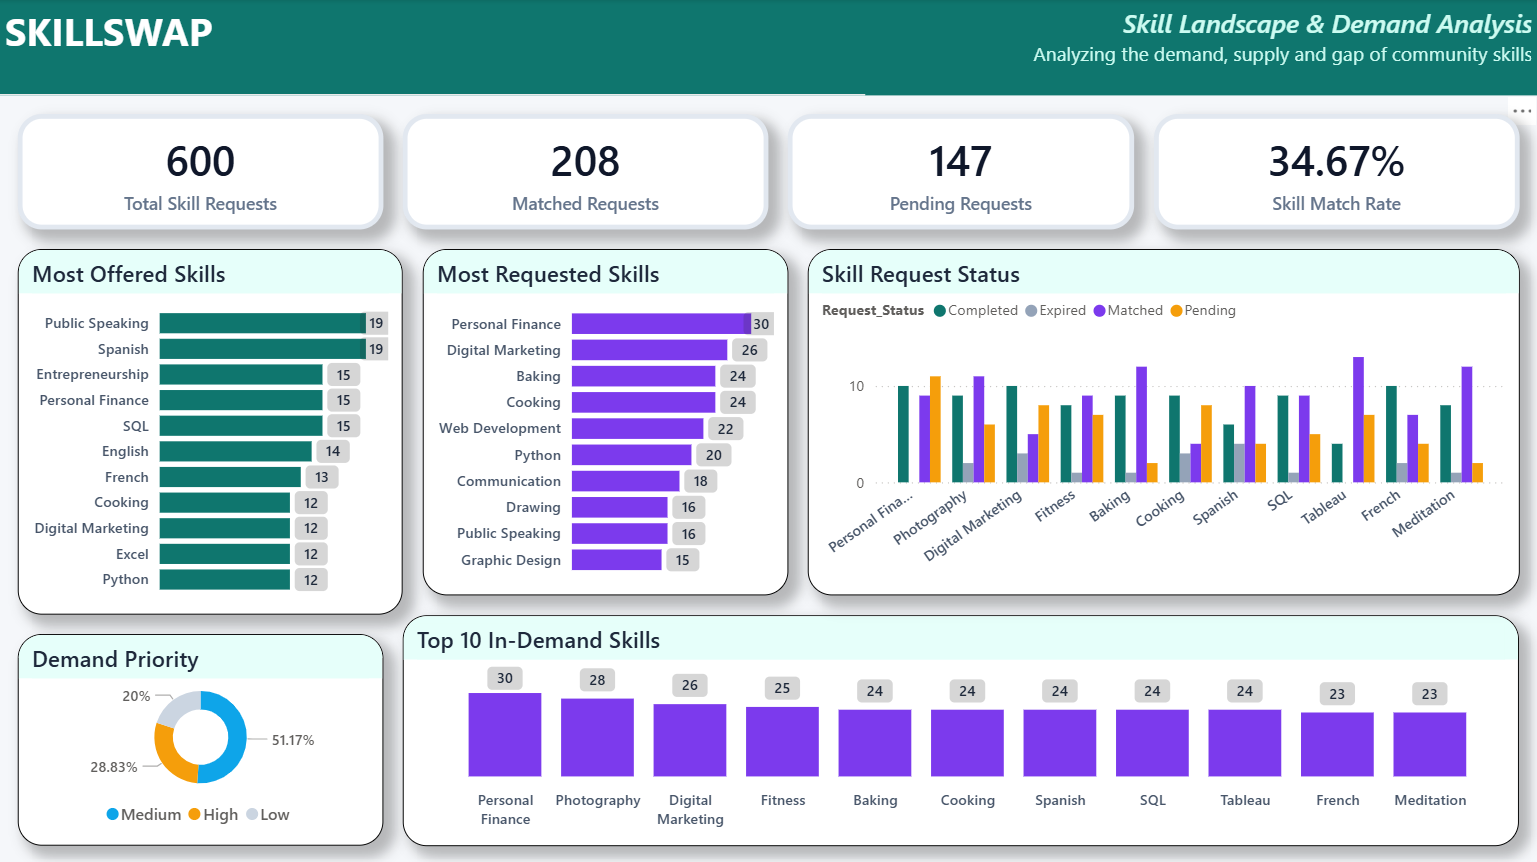

The dashboard page shown, as its layout file describes it:
{"tool":"powerbi","page":{"name":"Skill Demand","canvas":[1280,720],"ordinal":1},"visuals":[{"type":"textbox","box":[0,0,1280,80],"z":0},{"type":"textbox","box":[720,0,560,80],"z":1000},{"type":"card","fields":{"Values":["Sessions.Total Skill Requests"]},"box":[16,96,304,96],"z":2000},{"type":"card","fields":{"Values":["Sessions.Matched Requests"]},"box":[336,96,304,96],"z":3000},{"type":"card","fields":{"Values":["Sessions.Pending Requests"]},"box":[656,96,288,96],"z":4000},{"type":"card","fields":{"Values":["Sessions.Skill Match Rate"]},"box":[960,96,304,96],"z":5000},{"type":"clusteredBarChart","title":"Most Requested Skills","fields":{"Category":["Skills.Skill_Name"],"Y":["Sessions.Total Skill Requests"]},"box":[352,208,304,288],"z":6000},{"type":"clusteredBarChart","title":"Most Offered Skills","fields":{"Y":["Sessions.Teachers Count"],"Category":["Users.Primary_Teaching_Skill"]},"box":[16,208,320,304],"z":7000},{"type":"donutChart","title":"Demand Priority","fields":{"Category":["Skill_Requests.Demand_Priority"],"Y":["Sessions.Total Skill Requests"]},"box":[16,528,304,176],"z":8000},{"type":"clusteredColumnChart","title":"Top 10 In-Demand Skills","fields":{"Y":["Sessions.Skill Requests"],"Category":["Skills.Skill_Name"]},"box":[336,512,928,192],"z":9000},{"type":"clusteredColumnChart","title":"Skill Request Status","fields":{"Category":["Skills.Skill_Name"],"Y":["Sessions.Total Skill Requests"],"Series":["Skill_Requests.Request_Status"]},"box":[672,208,592,288],"z":10000}]}

Visuals, with their boxes in screenshot pixels (x1, y1, x2, y2), scaled from the page's 1280x720 canvas onto the 1537x862 screenshot:
textbox: [x1=0, y1=0, x2=1536, y2=96]
textbox: [x1=865, y1=0, x2=1536, y2=96]
card - Sessions.Total Skill Requests: [x1=19, y1=115, x2=384, y2=230]
card - Sessions.Matched Requests: [x1=403, y1=115, x2=768, y2=230]
card - Sessions.Pending Requests: [x1=788, y1=115, x2=1134, y2=230]
card - Sessions.Skill Match Rate: [x1=1153, y1=115, x2=1518, y2=230]
"Most Requested Skills" clusteredBarChart: [x1=423, y1=249, x2=788, y2=594]
"Most Offered Skills" clusteredBarChart: [x1=19, y1=249, x2=403, y2=613]
"Demand Priority" donutChart: [x1=19, y1=632, x2=384, y2=843]
"Top 10 In-Demand Skills" clusteredColumnChart: [x1=403, y1=613, x2=1518, y2=843]
"Skill Request Status" clusteredColumnChart: [x1=807, y1=249, x2=1518, y2=594]
